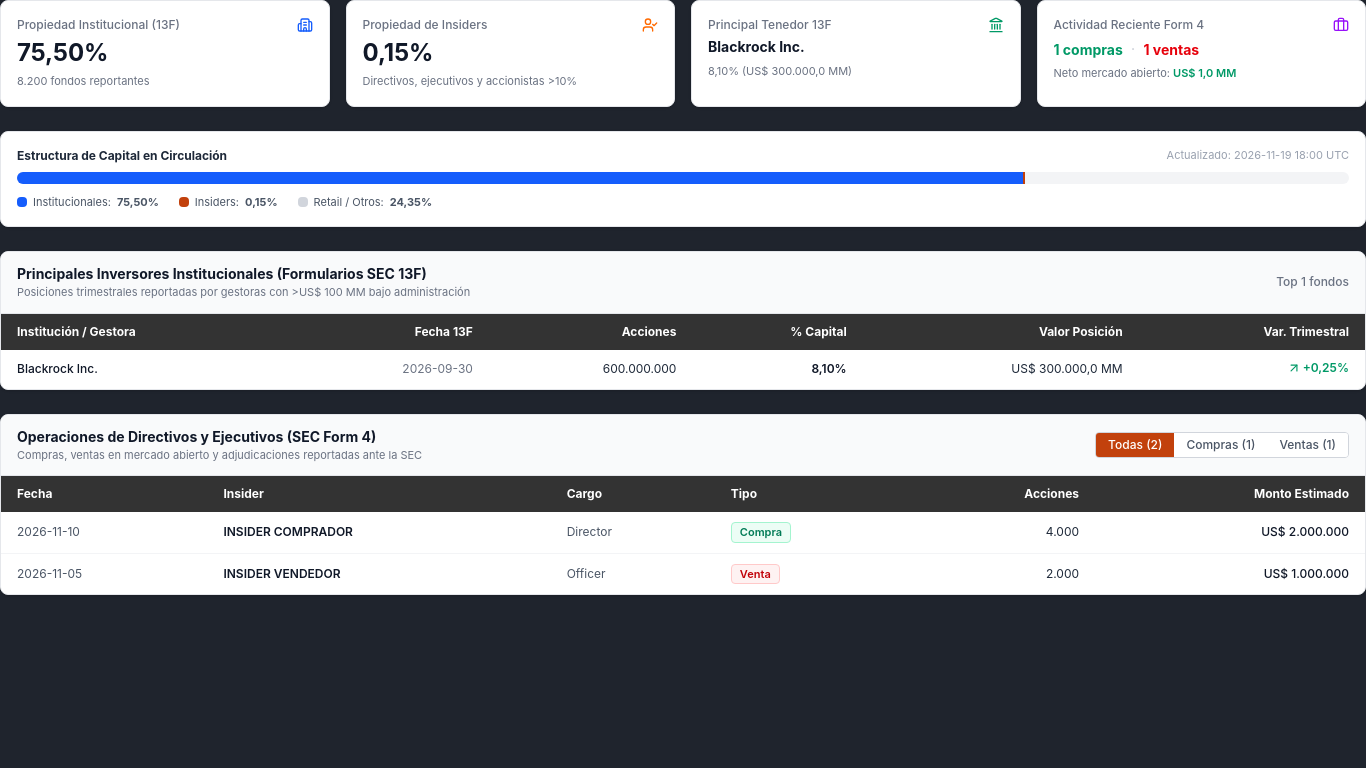
it: OwnershipInsidersTab › renderiza indicadores 13F y filtra transacciones Form 4 por compra/venta
The width and height of the screenshot is (1366, 768).
What coordinates should you click on to do the following:
click the button "Compras (1)"
I would click on:
 (1221, 445)
Its box is x1=1174 y1=433 x2=1267 y2=457.
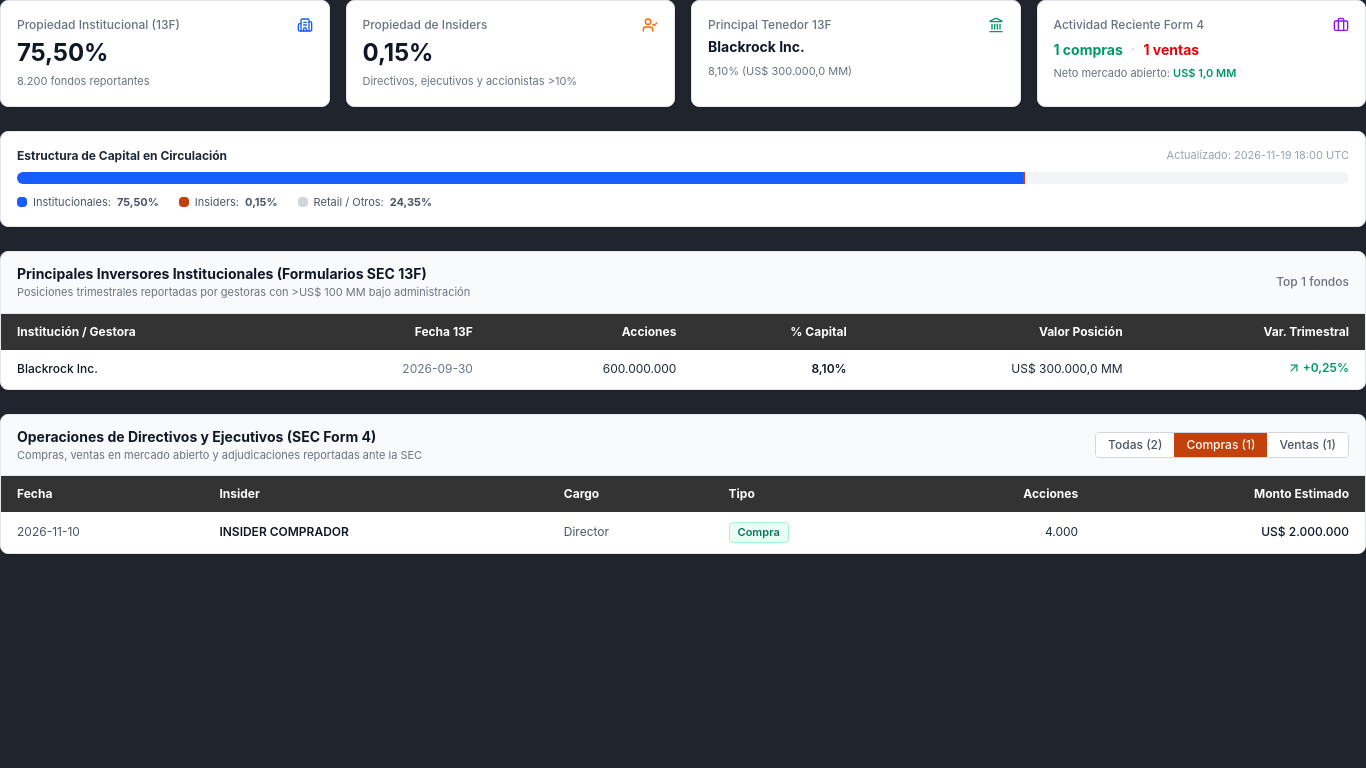
Expected: the text "INSIDER COMPRADOR" is shown, x1=203 y1=512 x2=548 y2=553
Expected: the text "INSIDER VENDEDOR" is gone
